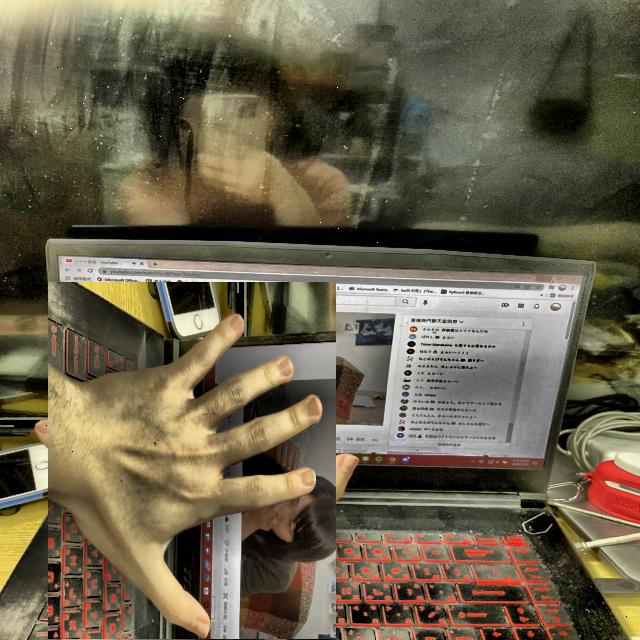not-gloved: (25, 304, 359, 638)
